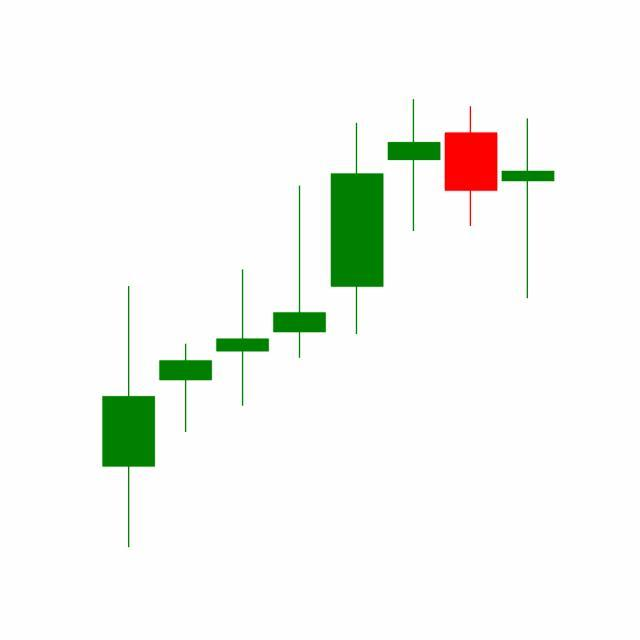Hikkake Pattern: (270, 100, 555, 363)
